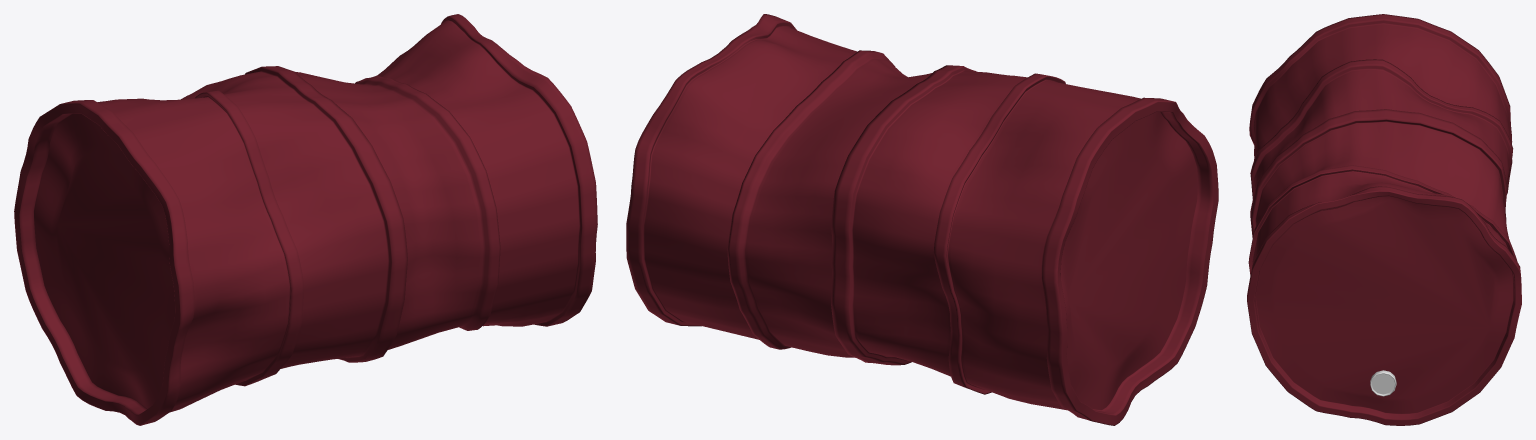
Rendered from fusto_accartocciato.fbx.
The picture shows the model from 3 angles, left to right: view 1: azimuth 30°, elevation 25°; view 2: azimuth 150°, elevation 25°; view 3: azimuth 270°, elevation 25°; orthographic projection. The views are drawn at different scales.
Visible parts, largest first — view 1: Fusto; view 2: Fusto; view 3: Fusto.
Boxes of the visible parts, x1,y1,x2,y2 form: Fusto: [14, 14, 597, 425]; Fusto: [626, 14, 1218, 425]; Fusto: [1247, 14, 1521, 425].
Bounding box in the file's own units: 154 × 102 × 104.
